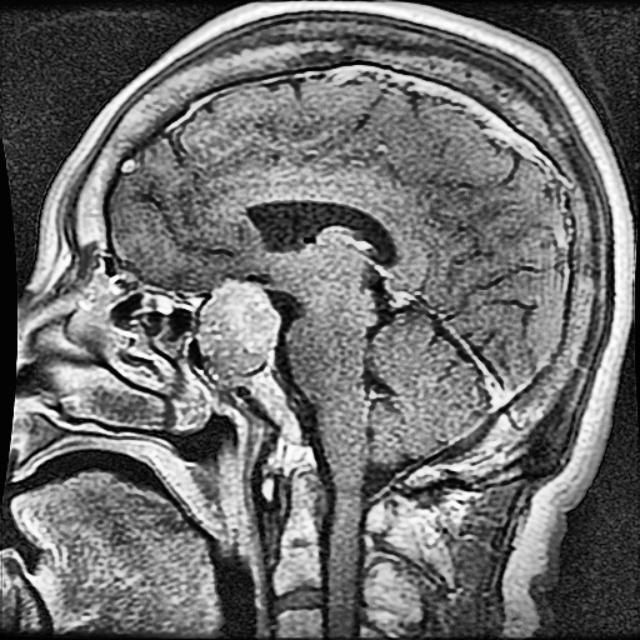Pituitary: (197, 282, 277, 384)
